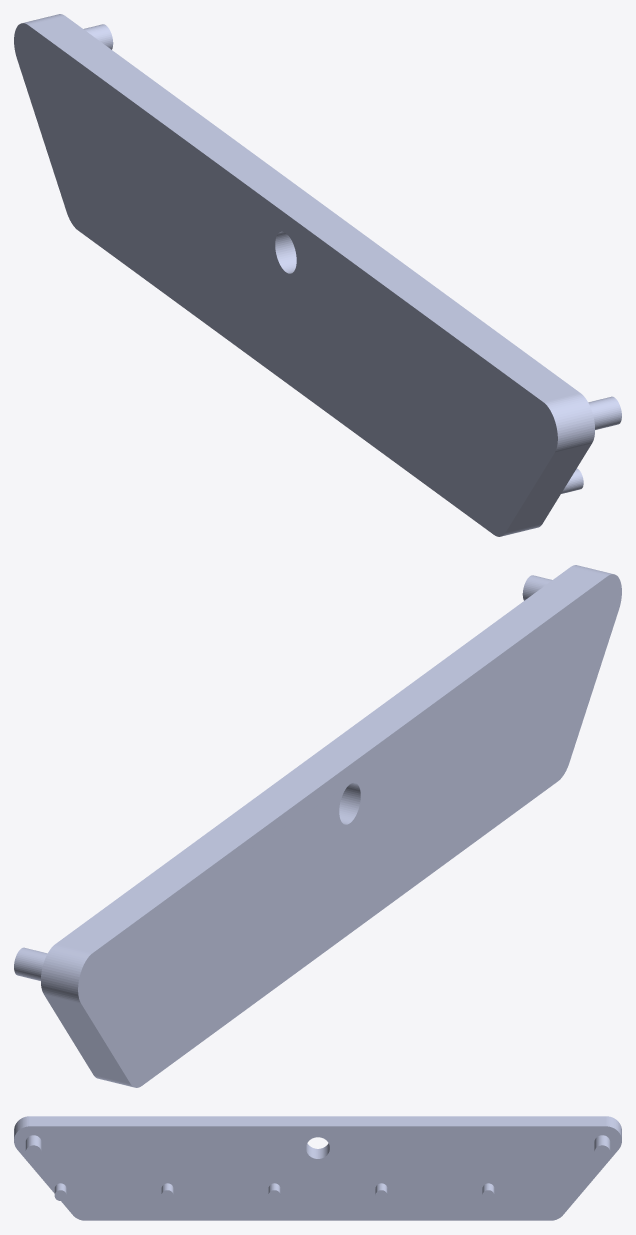
File: Lado_IzquierdoV1.2.dae
3 renders of one model, top to bottom at view 1: azimuth 30°, elevation 25°; view 2: azimuth 150°, elevation 25°; view 3: azimuth 270°, elevation 25°, orthographic. The views are drawn at different scales.
Parts seen in each view (by area): view 1: ID2; view 2: ID2; view 3: ID2.
Part boxes in pixels (<box>): ID2: <box>14,14,621,536</box>; ID2: <box>14,565,621,1087</box>; ID2: <box>14,1116,621,1220</box>.
Bounding box in the file's own units: 0.06 × 0.7588 × 0.13.
